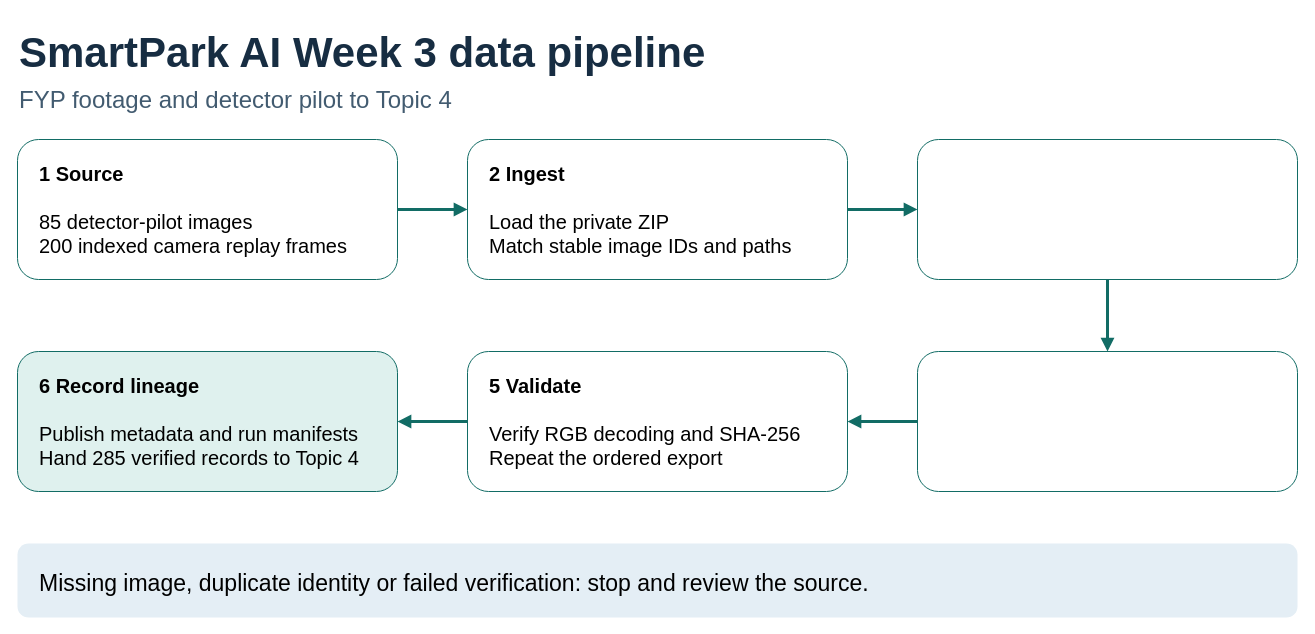
The diagram is 1315 pixels wide and 634 high, and some of its shapes have lost their labels. Here are the shapes that lost their labels. From the top down, the centre of each, then its label:
At (1107,209): "3 Inspect Check source roles and dimensions Compare native and preview geometry".
At (1107,421): "4 Prepare Retain source JPEG geometry Index labels, timing and provenance".
